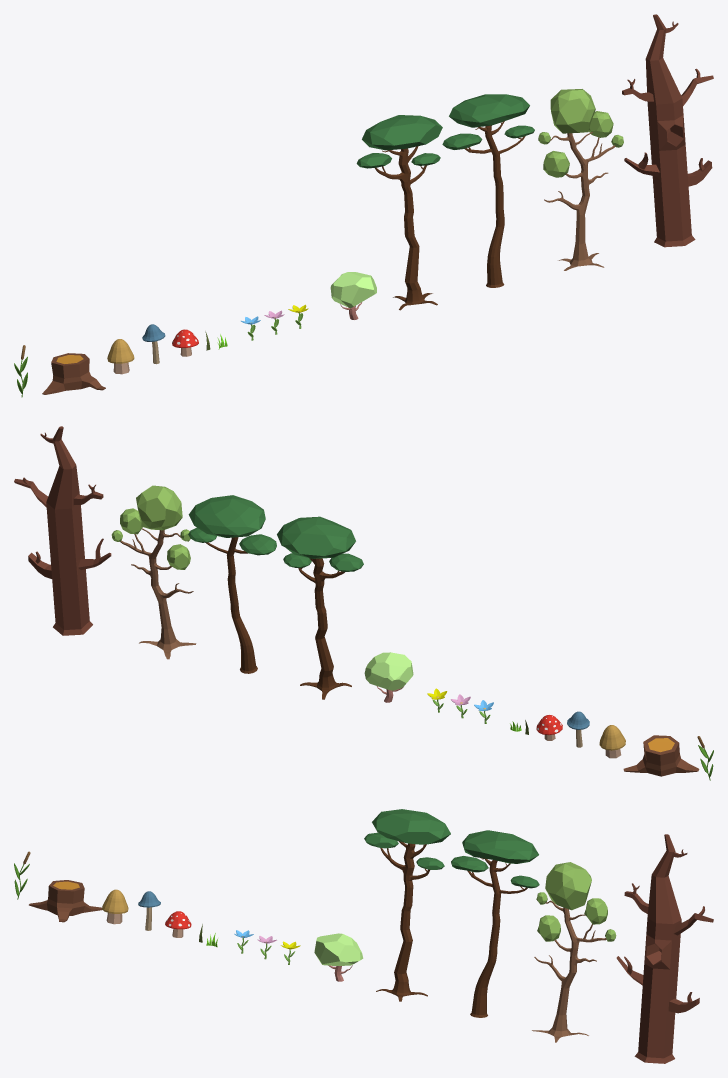
File: forest-kit.glb
The picture shows the model from 3 angles, top to bottom: view 1: azimuth 30°, elevation 25°; view 2: azimuth 150°, elevation 25°; view 3: azimuth 330°, elevation 25°; orthographic projection. The views are drawn at different scales.
Parts seen in each view (by area): view 1: Cylinder.001, Icosphere.002, Icosphere.004, Icosphere.005, Cylinder.002, Cylinder, Icosphere.012, Cylinder.003; view 2: Cylinder.001, Icosphere.002, Icosphere.004, Icosphere.005, Cylinder, Icosphere.012, Cylinder.002, Cylinder.003, Icosphere.006; view 3: Cylinder.001, Icosphere.002, Icosphere.004, Icosphere.005, Cylinder.002, Cylinder, Icosphere.012, Cylinder.003, Icosphere.006, Cylinder.005.
Part boxes in pixels (box(x1,y1,x2,y2)): Cylinder.001: box(622, 14, 713, 247); Icosphere.002: box(356, 115, 442, 310); Icosphere.004: box(538, 89, 623, 270); Icosphere.005: box(449, 94, 529, 127); Cylinder.002: box(464, 121, 525, 287); Cylinder: box(42, 353, 105, 394); Icosphere.012: box(330, 272, 376, 319); Cylinder.003: box(107, 339, 134, 374); Cylinder.001: box(14, 426, 111, 635); Icosphere.002: box(277, 516, 363, 699); Icosphere.004: box(111, 485, 196, 659); Icosphere.005: box(188, 495, 265, 537); Cylinder: box(623, 735, 699, 776); Icosphere.012: box(364, 652, 413, 702); Cylinder.002: box(205, 537, 257, 673); Cylinder.003: box(599, 725, 625, 758); Icosphere.006: box(239, 534, 276, 555); Cylinder.001: box(616, 834, 713, 1063); Icosphere.002: box(364, 809, 450, 1001); Icosphere.004: box(532, 862, 616, 1042); Icosphere.005: box(462, 830, 538, 863); Cylinder.002: box(467, 858, 527, 1017); Cylinder: box(29, 880, 101, 922); Icosphere.012: box(314, 933, 363, 981); Cylinder.003: box(102, 889, 128, 924); Icosphere.006: box(451, 856, 488, 872); Cylinder.005: box(165, 911, 191, 937).
Bounding box in the file's own units: 31.8 × 9.37 × 3.74.
